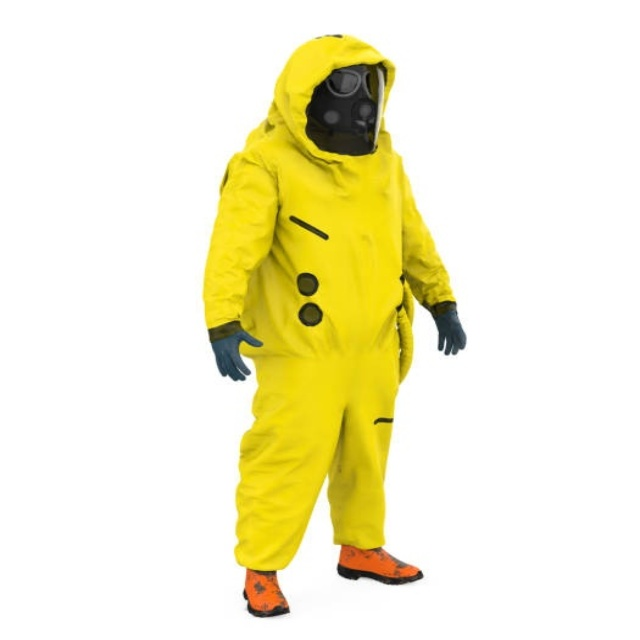Guantes: (209, 324, 262, 381), (429, 304, 466, 356)
